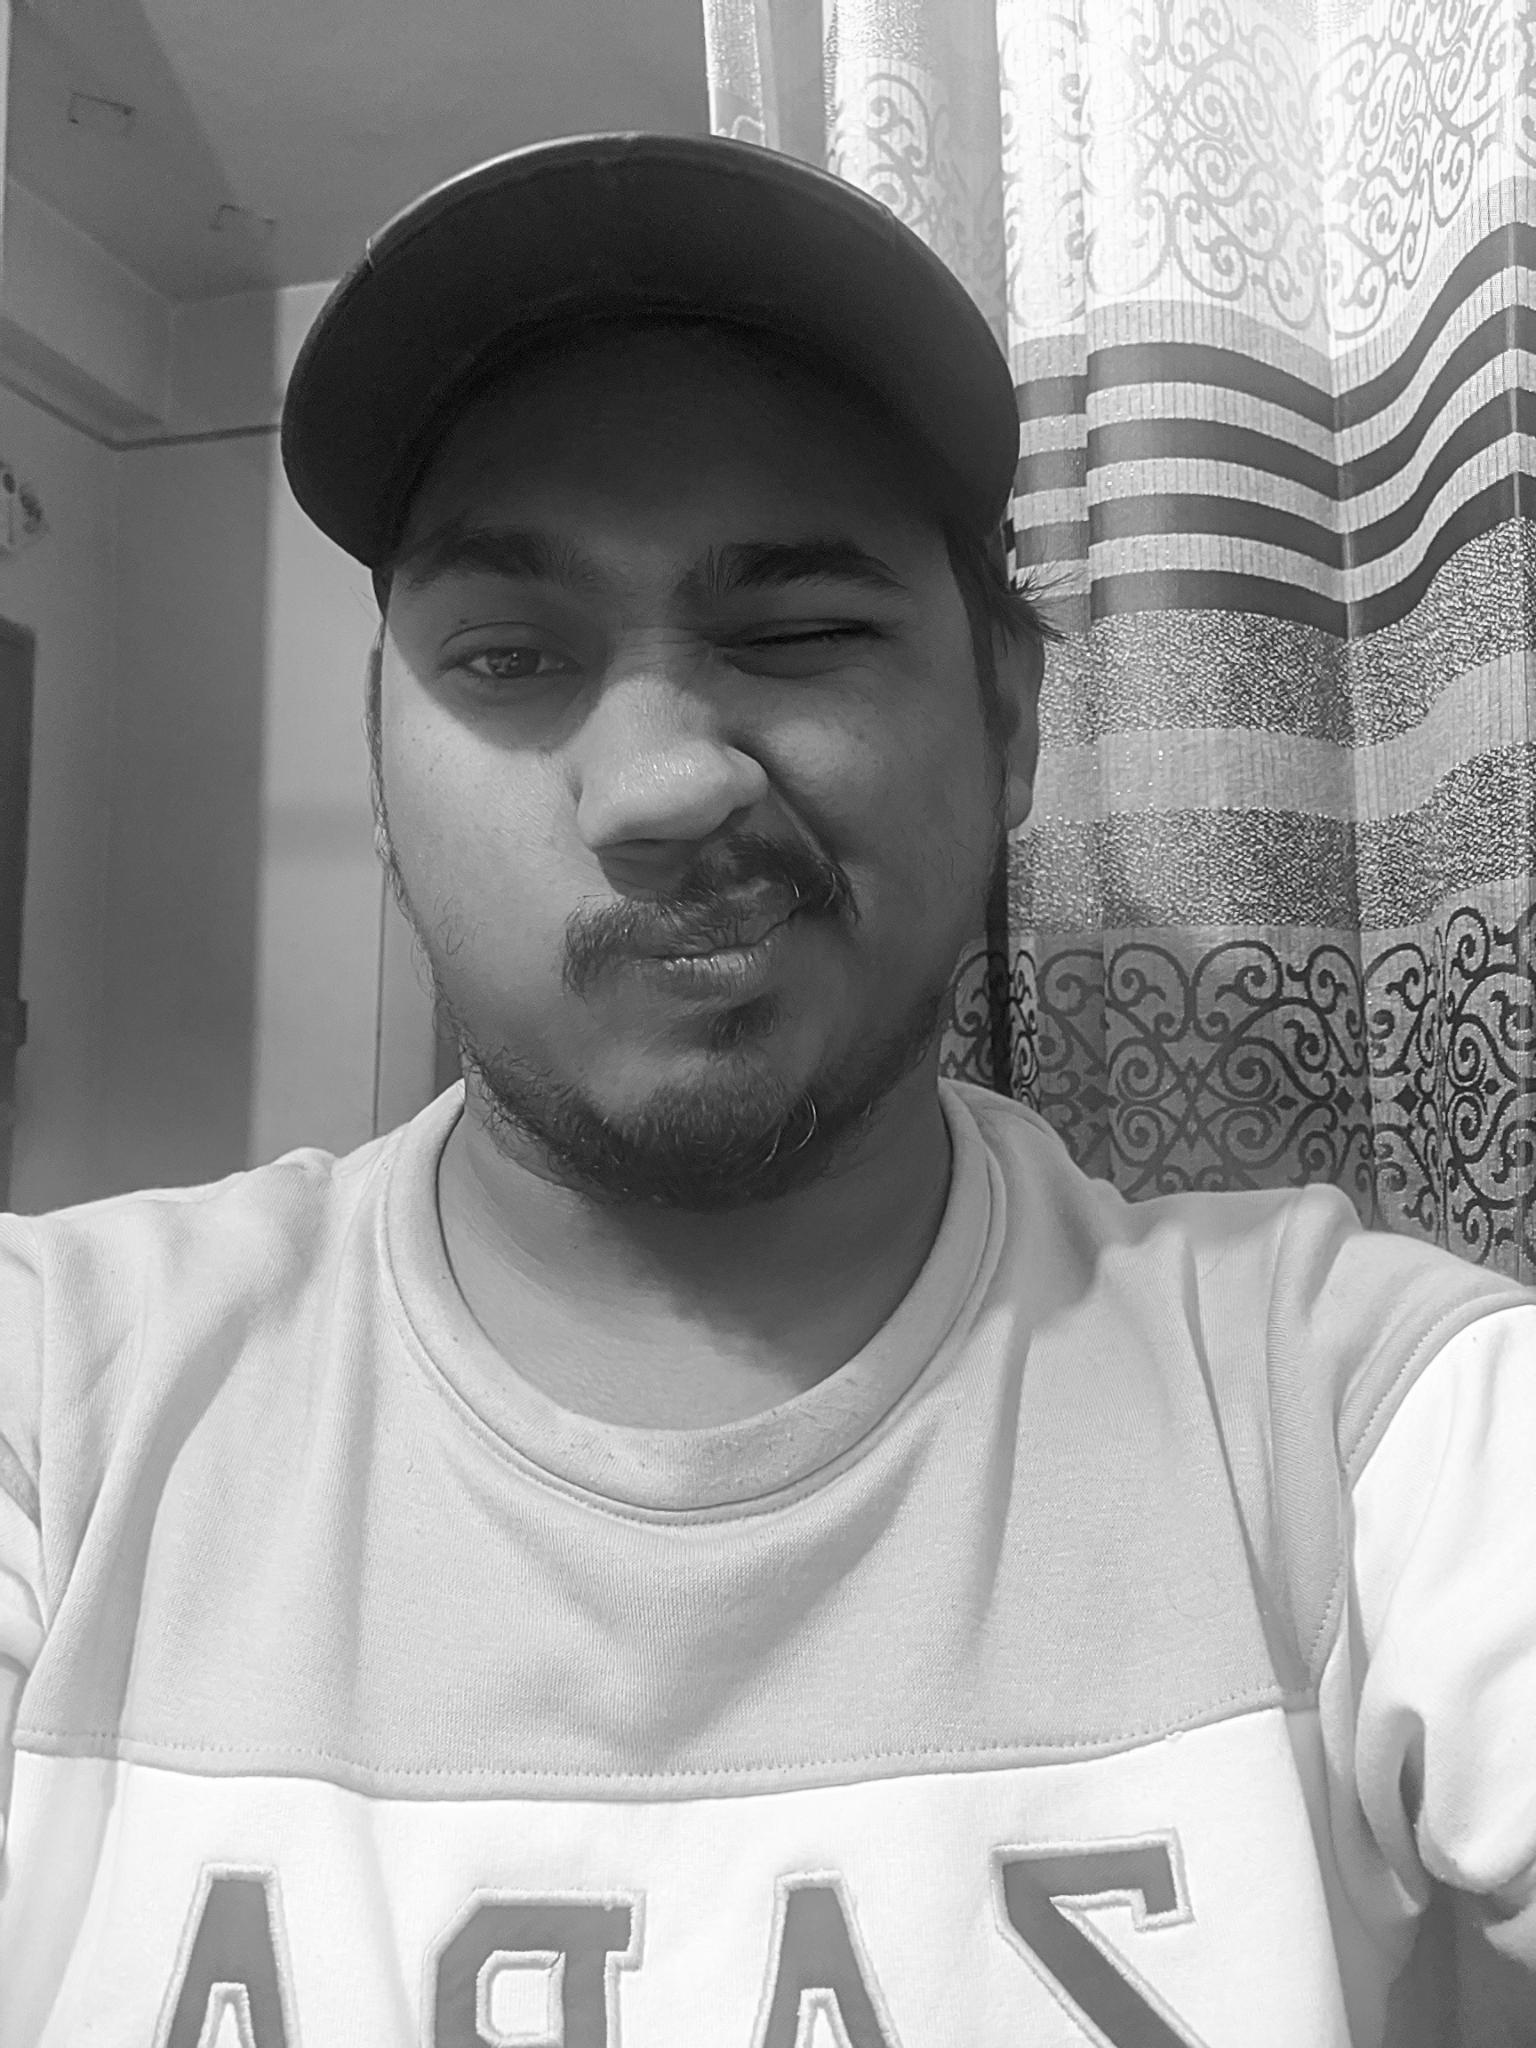Disgust: (371, 418, 1005, 1187)
